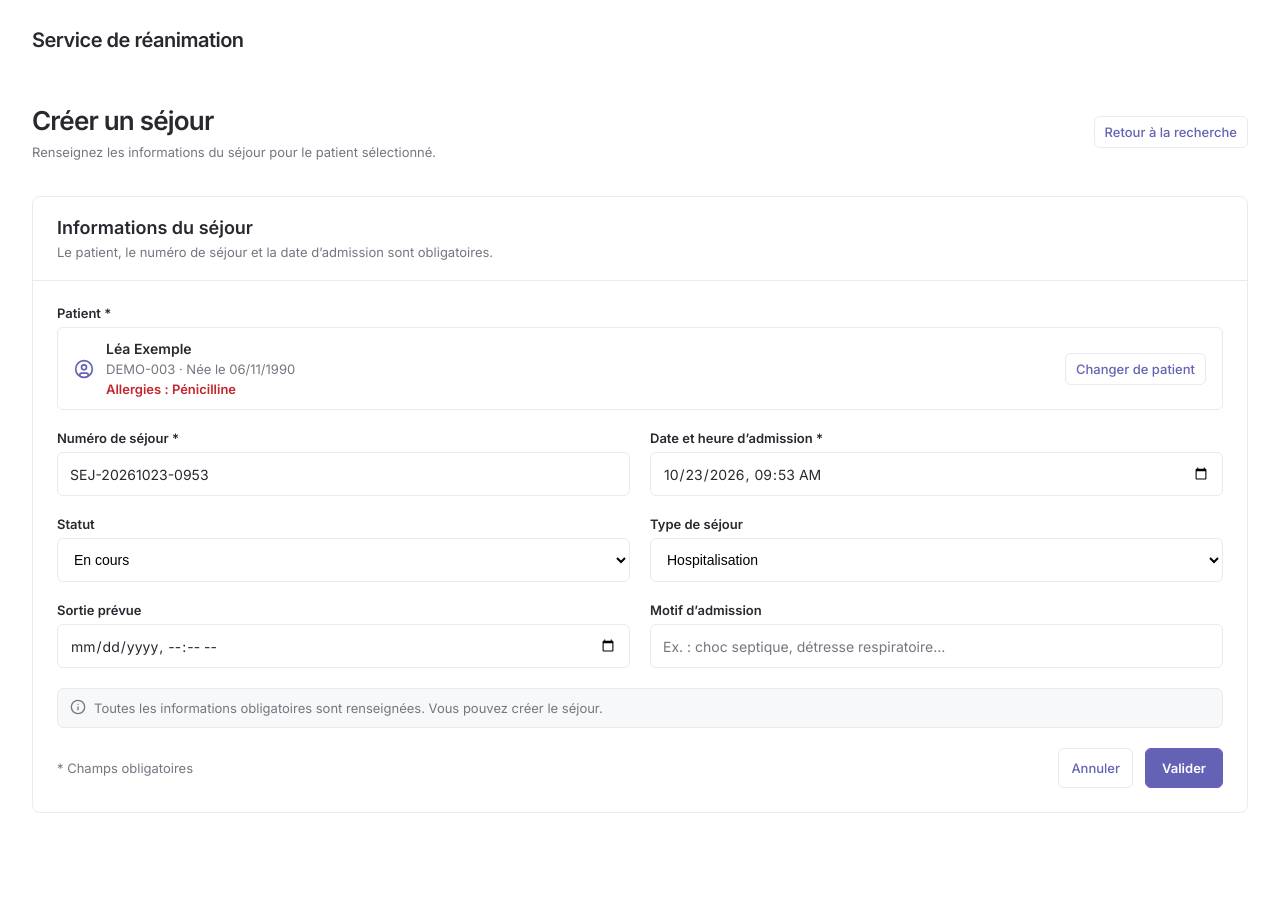
Scenario: refuses an expected discharge before the admission
Replace the text in the field labelled "Date et heure d’admission *" with "2026-10-23T08:00": (936, 474) [650,452,1223,496]
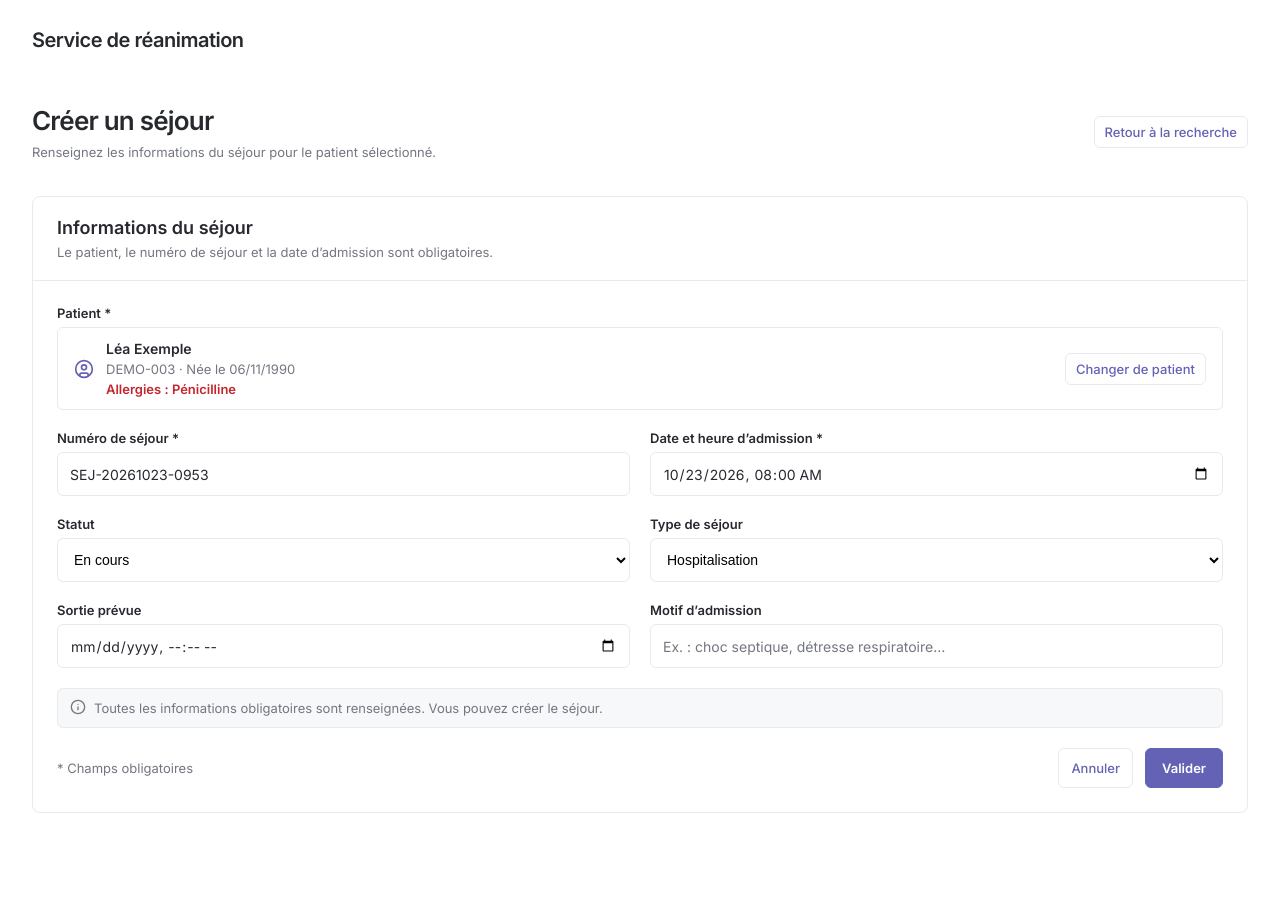
In the field labelled "Sortie prévue": (344, 646) [57,624,630,668], type "2026-10-22T08:00"
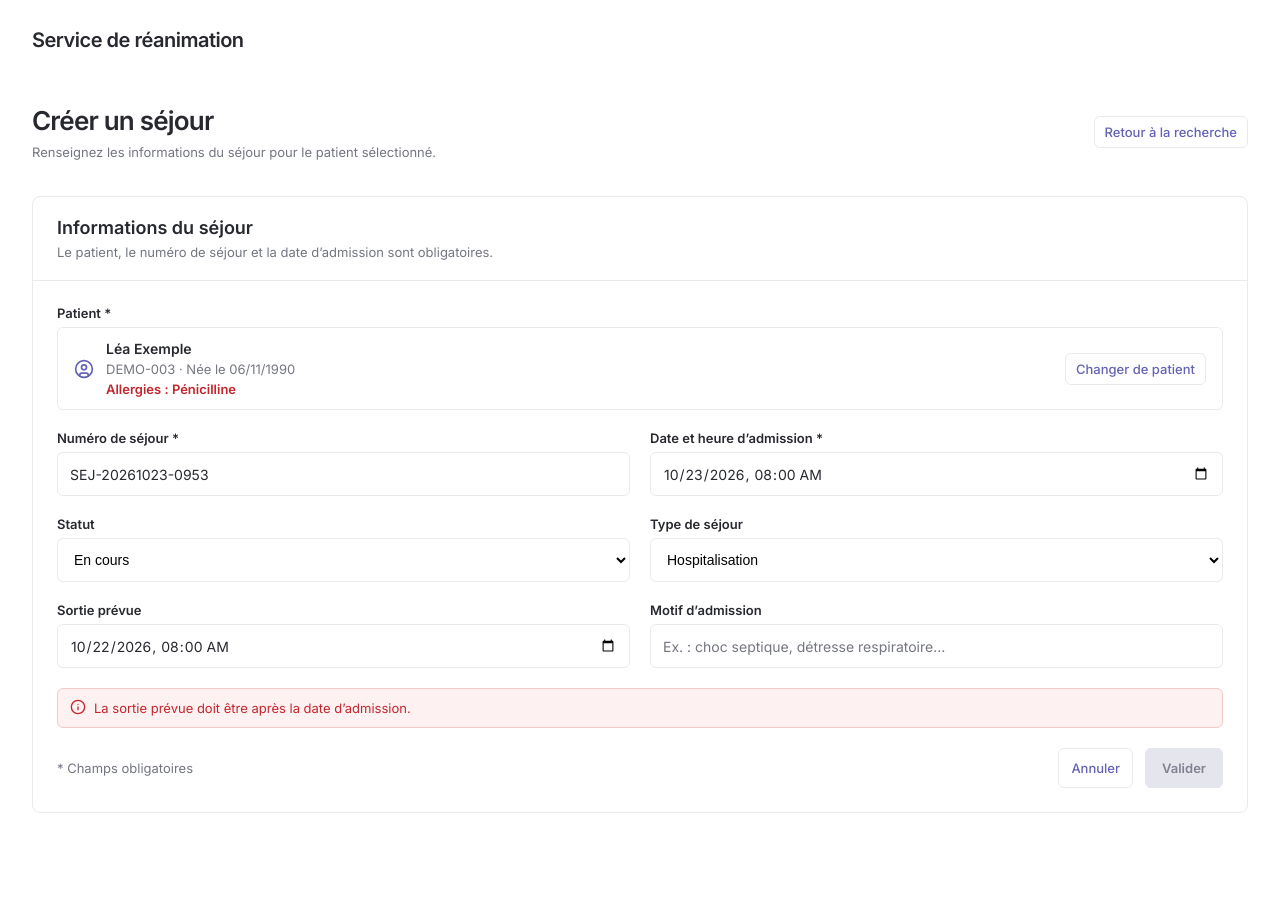
Now the submit button is disabled, box [1145,748,1223,788]
Now the text "La sortie prévue doit être après la date d’admission." is shown, box [57,688,1223,728]
